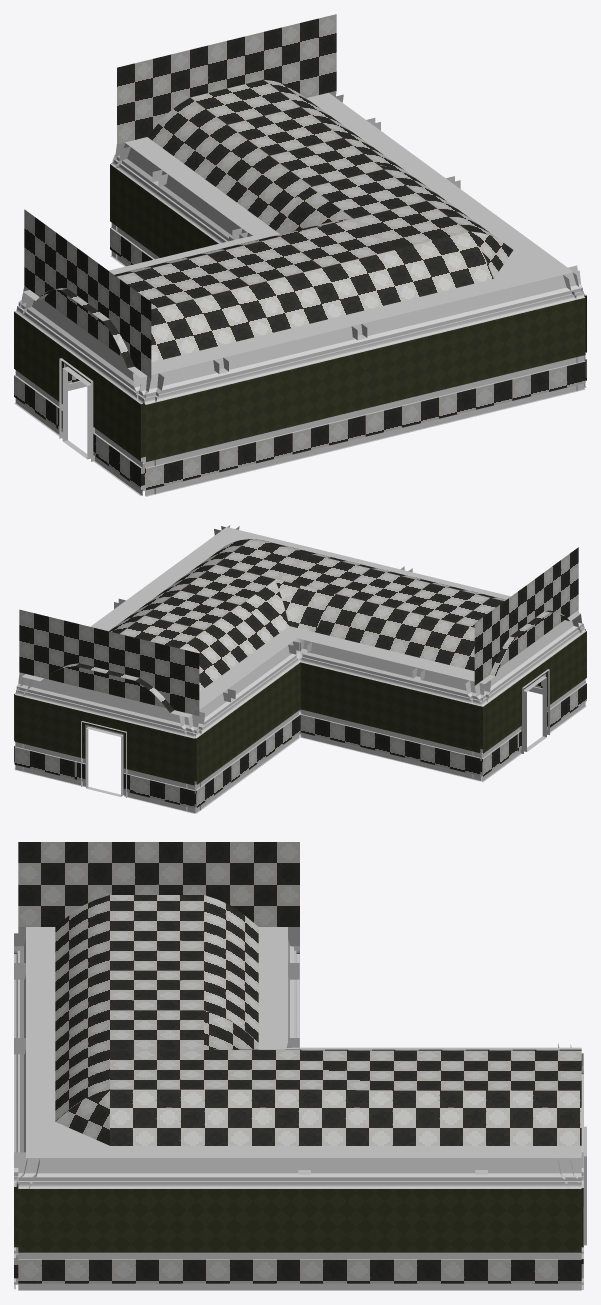
Rendered from Room_3 v2.fbx.
The picture shows the model from 3 angles, top to bottom: view 1: azimuth 30°, elevation 25°; view 2: azimuth 150°, elevation 25°; view 3: azimuth 270°, elevation 25°; orthographic projection. The views are drawn at different scales.
Parts seen in each view (by area): view 1: Plane.031; view 2: Plane.031; view 3: Plane.031.
Part boxes in pixels (left/top/right/bottom): Plane.031: left=14, top=14, right=586, bottom=496; Plane.031: left=14, top=525, right=586, bottom=813; Plane.031: left=14, top=842, right=586, bottom=1290.
Size of the model in its own units: 1224 by 500 by 1220.
